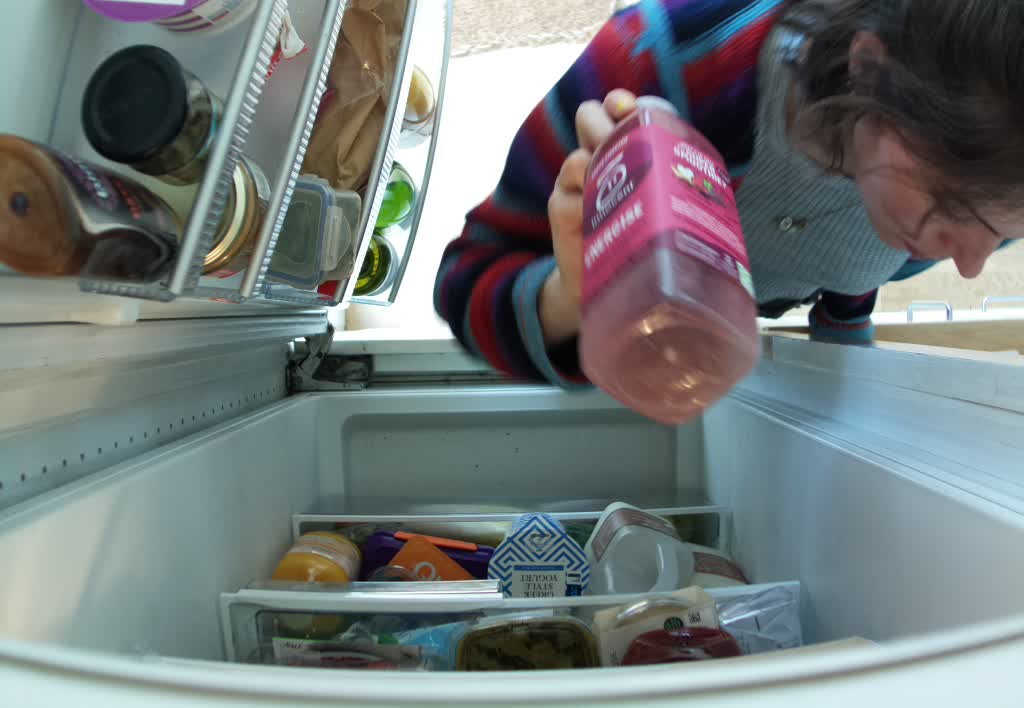juice: (573, 94, 759, 424)
